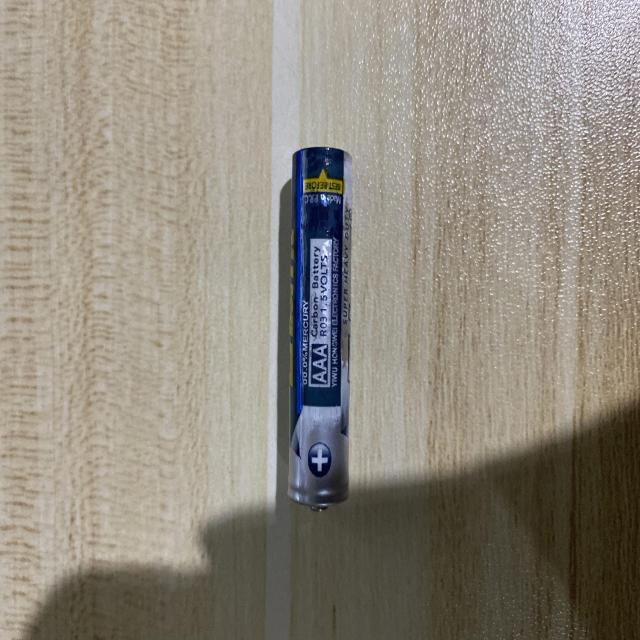AAA: (127, 286, 494, 352)
